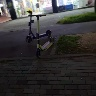beam: (22, 9, 53, 42)
gcooter: (28, 13, 56, 59)
